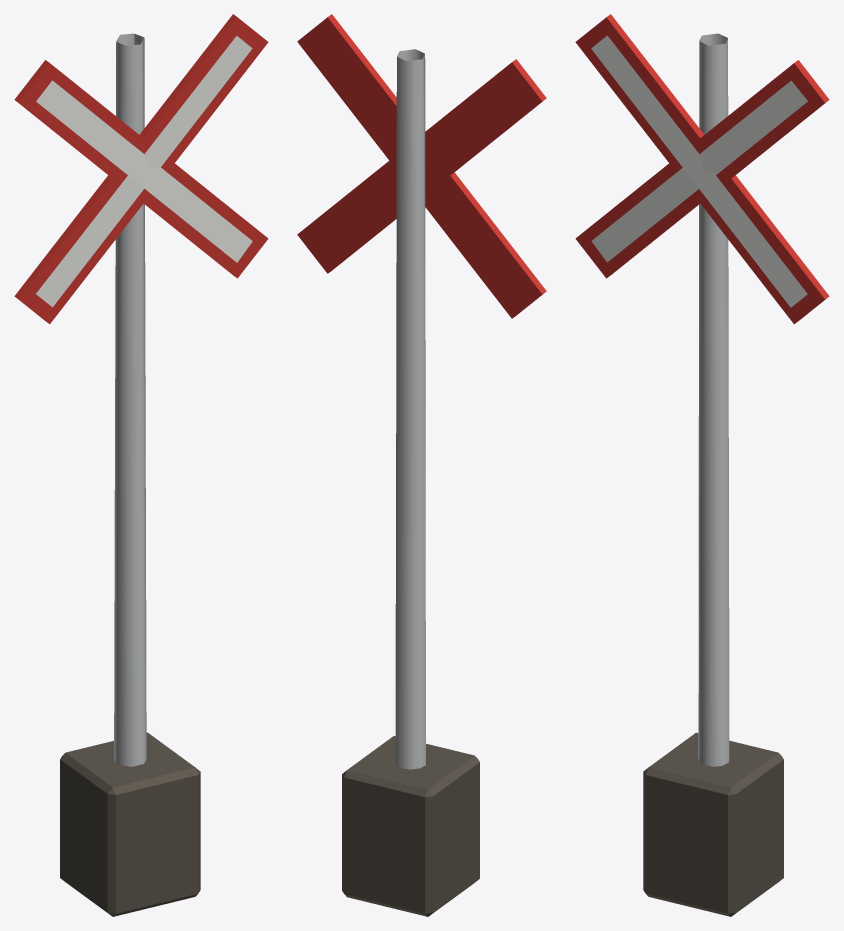
Rendered from crossing-saltire-lod1.glb.
The picture shows the model from 3 angles, left to right: view 1: azimuth 30°, elevation 25°; view 2: azimuth 150°, elevation 25°; view 3: azimuth 330°, elevation 25°; orthographic projection.
Visible parts, largest first — view 1: crossing-saltire-0.001; view 2: crossing-saltire-0.001; view 3: crossing-saltire-0.001.
Boxes of the visible parts, bbox=[...] form: crossing-saltire-0.001: bbox=[14, 14, 268, 916]; crossing-saltire-0.001: bbox=[297, 14, 546, 916]; crossing-saltire-0.001: bbox=[575, 14, 829, 916].
Size of the model in its own units: 0.9688 by 3.18 by 0.36.
